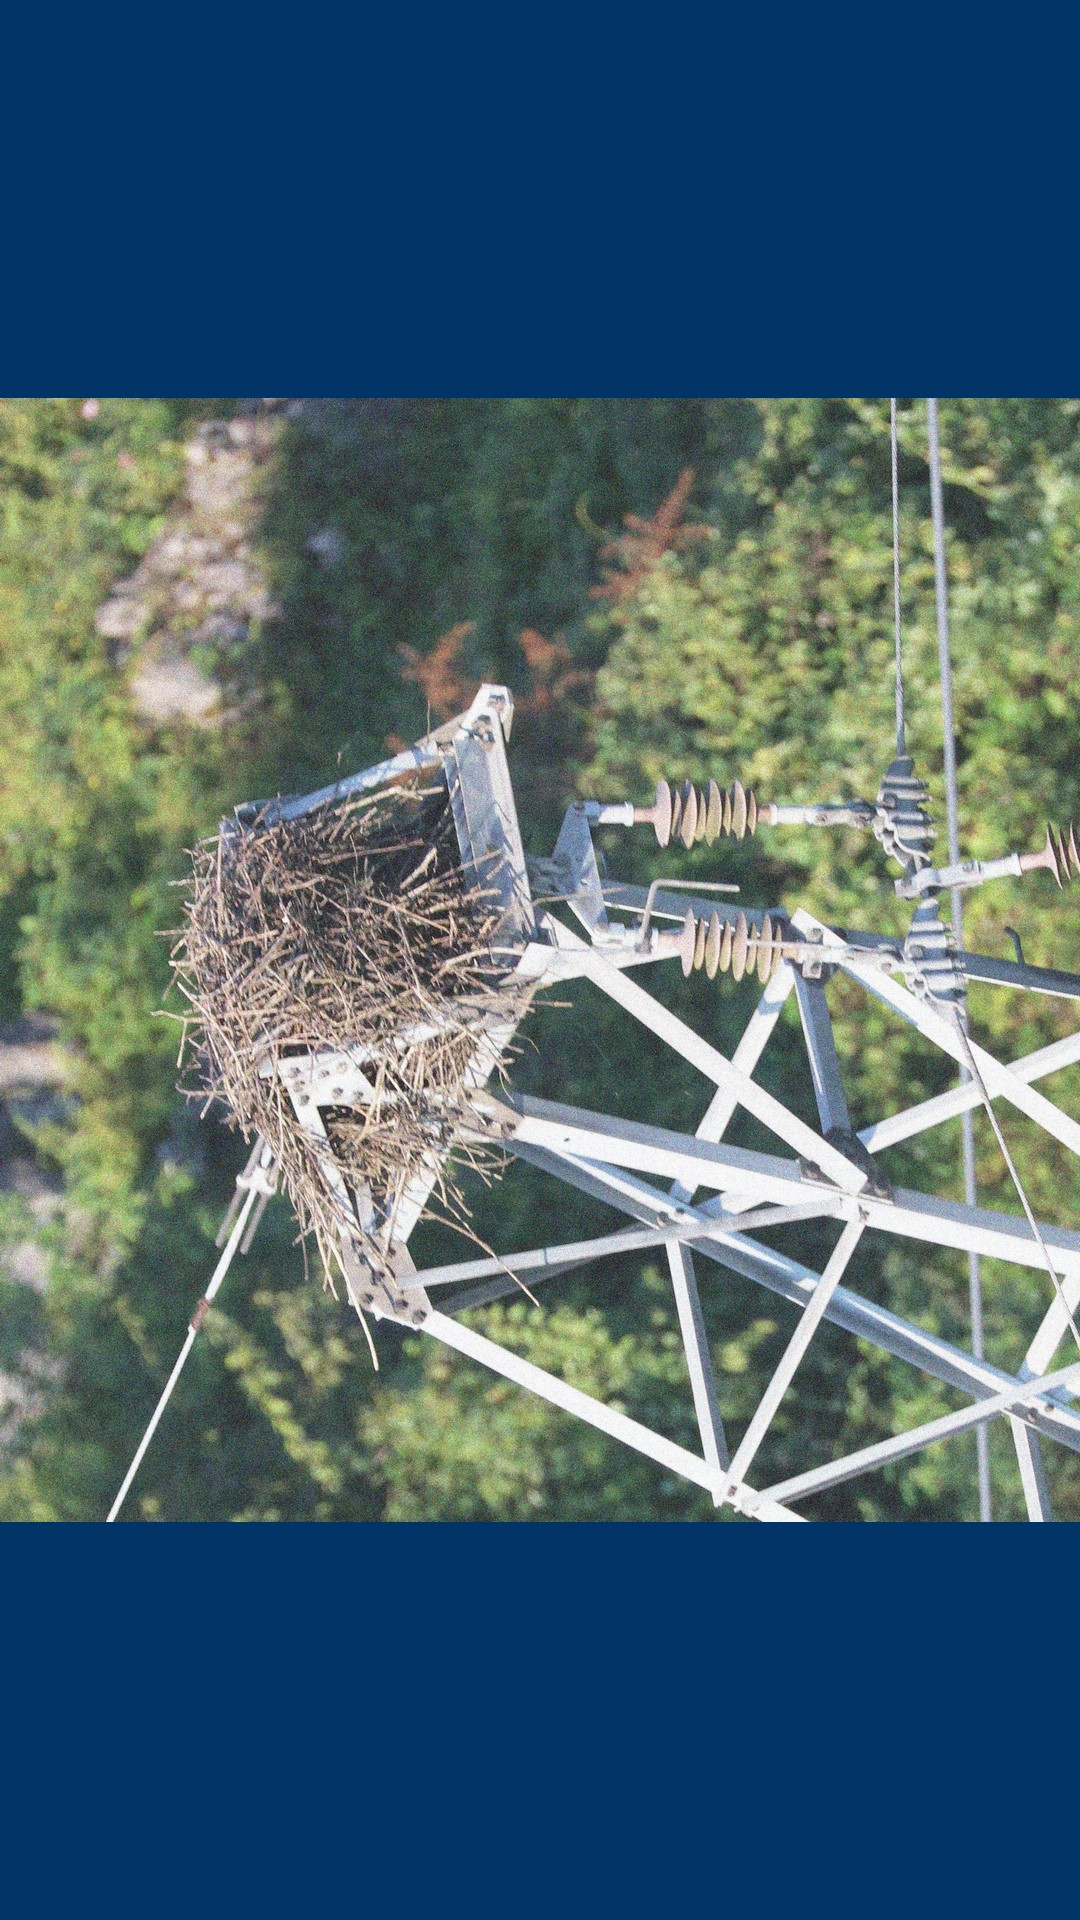niaowo: (123, 803, 567, 1245)
